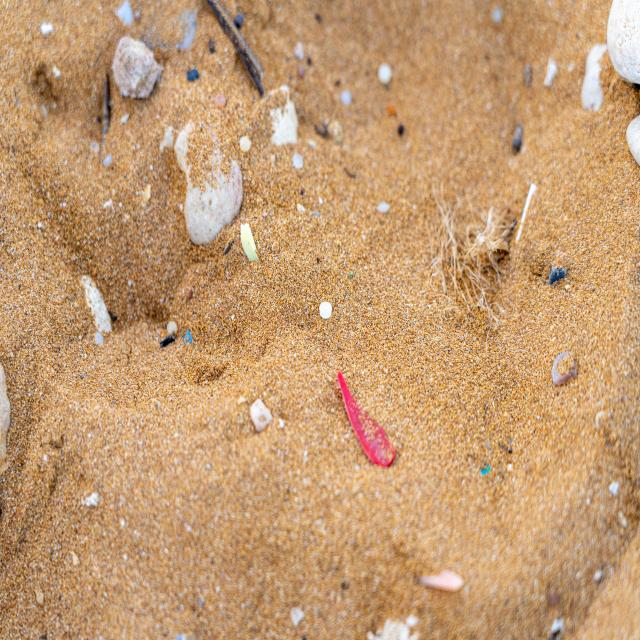Other plastic: (338, 369, 401, 467)
